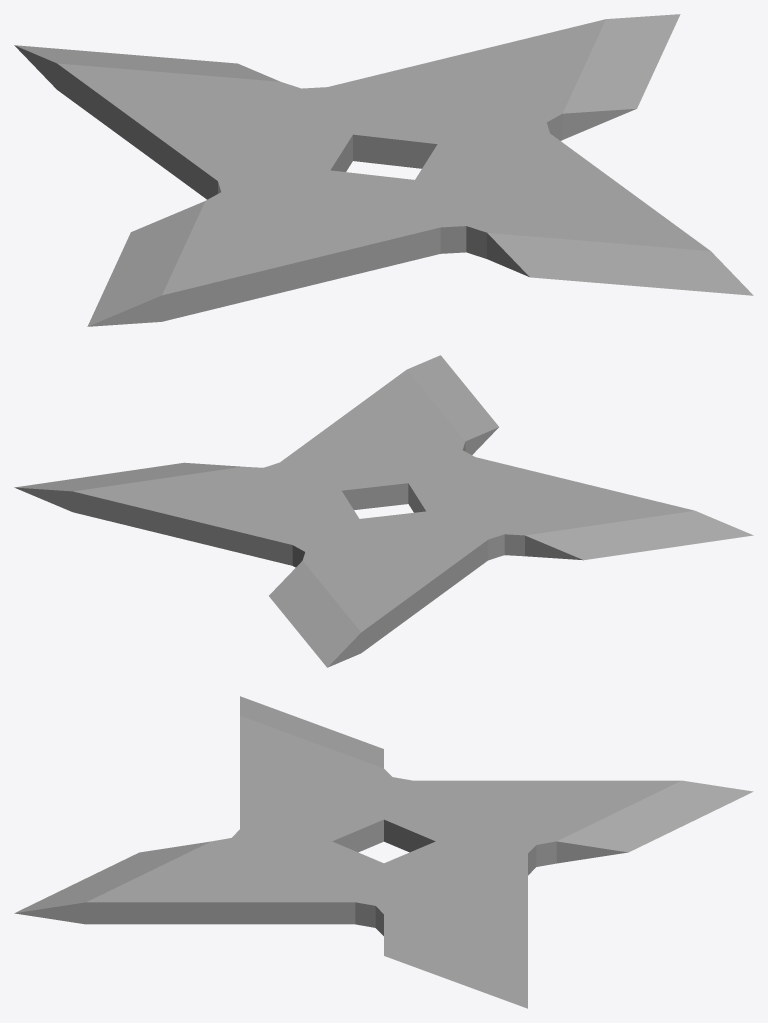
File: Angled 4 Point Shuriken - Textured Low Poly Asian Weapon Pack by Kickin It Studios.fbx
3 renders of one model, top to bottom at view 1: azimuth 30°, elevation 25°; view 2: azimuth 150°, elevation 25°; view 3: azimuth 270°, elevation 25°, orthographic. The views are drawn at different scales.
Visible parts, largest first — view 1: Angled 4 Point Shuriken; view 2: Angled 4 Point Shuriken; view 3: Angled 4 Point Shuriken.
Part boxes in pixels (x1=…): Angled 4 Point Shuriken: x1=14, y1=14, x2=753, y2=326; Angled 4 Point Shuriken: x1=14, y1=355, x2=753, y2=667; Angled 4 Point Shuriken: x1=14, y1=696, x2=753, y2=1008.
Size of the model in its own units: 105 by 3.47 by 105.
